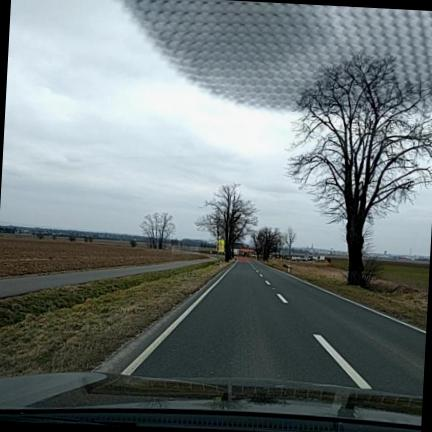Road: (128, 260, 425, 395), (0, 258, 207, 298)
